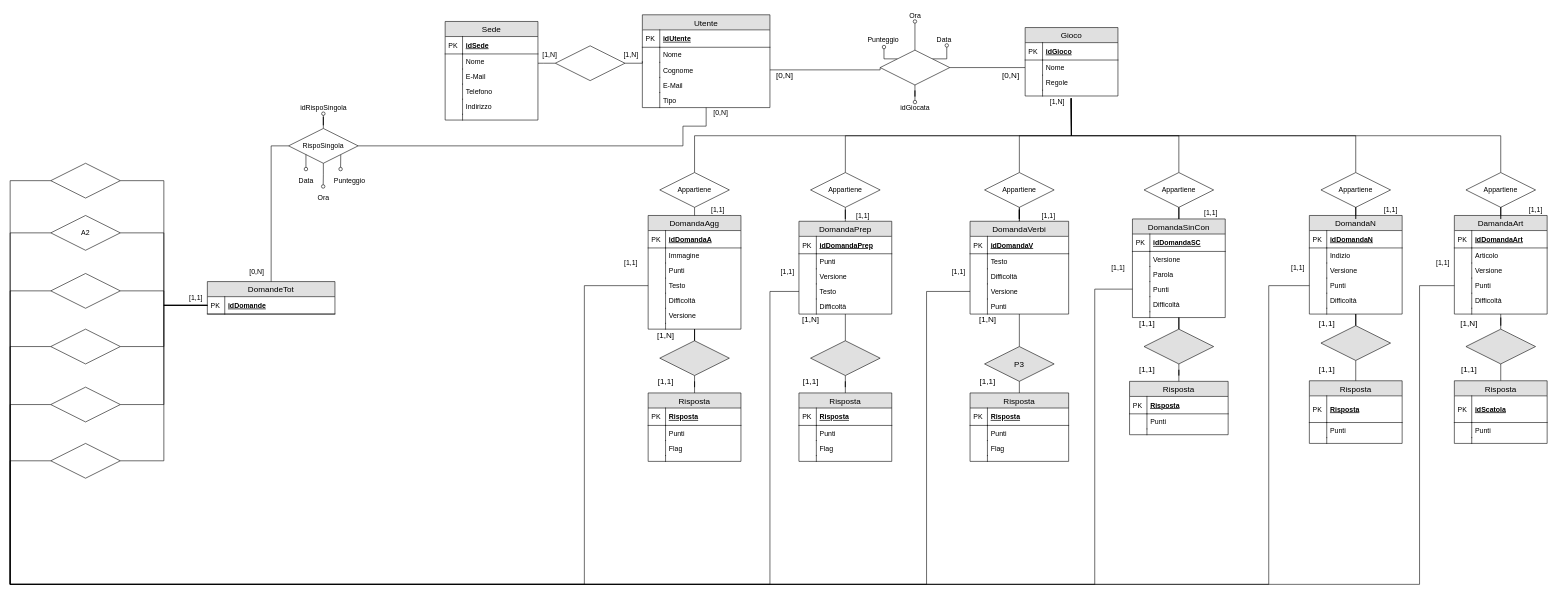
The diagram is 1557 pixels wide and 595 high, and some of its shapes have lost their labels. The centre of each missing label's shape, as x and y in pixels:
A1: (85,180)
A3: (85,290)
A4: (85,346)
A5: (85,404)
A6: (85,460)
Frequenta: (590,63)
Gioca: (915,67)
P1: (694,358)
P2: (845,358)
P4: (1178,346)
P5: (1355,342)
P6: (1500,346)
